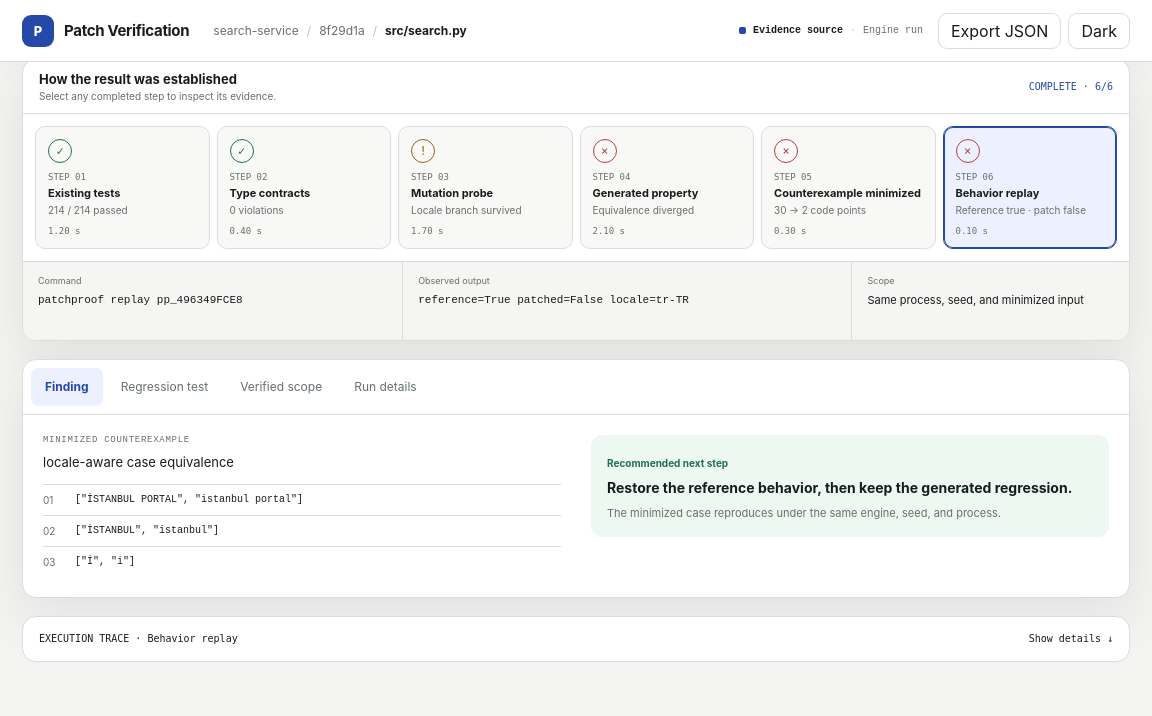
it: Patch Verification forensic workbench › navigates the evidence ledger and copies the generated regression
(page scrolled)
Click the tab "Regression test" at (164, 387), box [107,368,222,406]
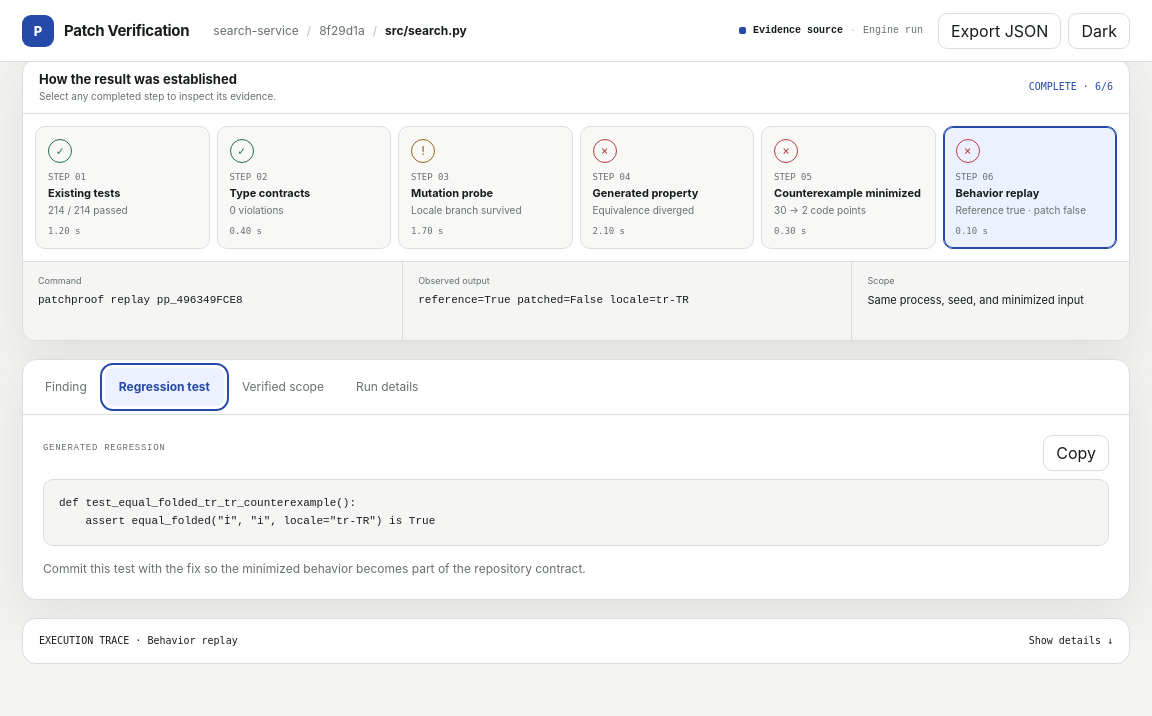
Click the button "Copy" at (1076, 453), box [1043,435,1109,471]
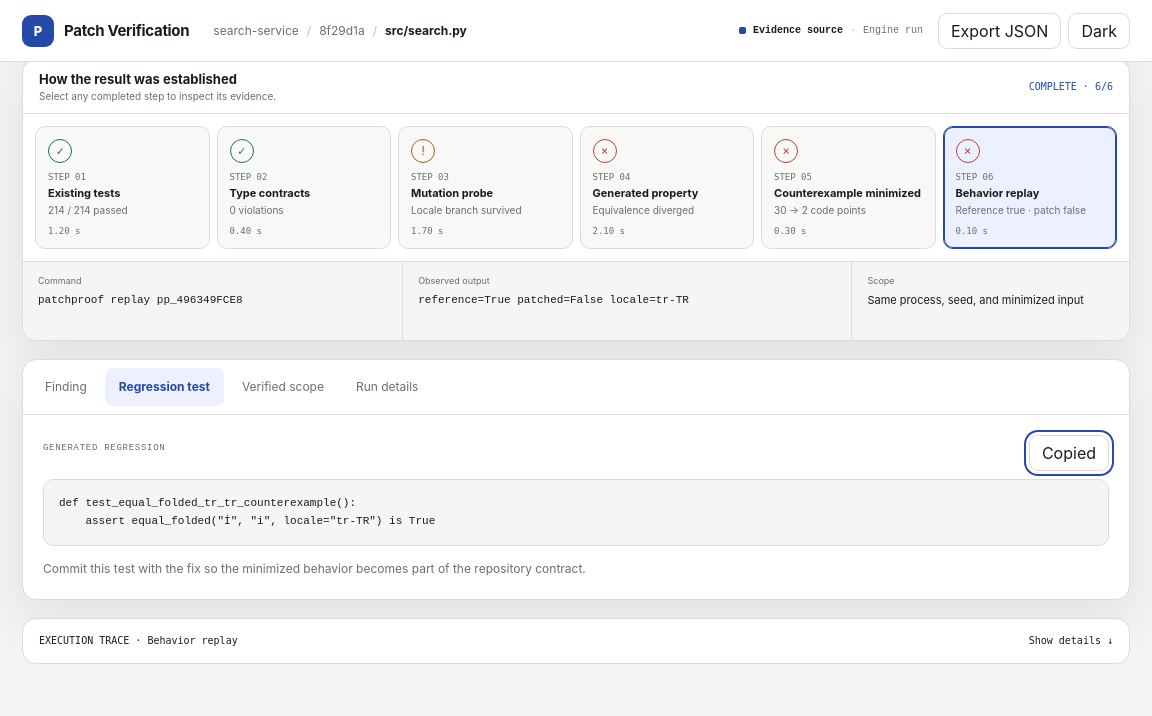
Click the tab "Verified scope" at (283, 387), box [228,368,338,406]
(page scrolled)
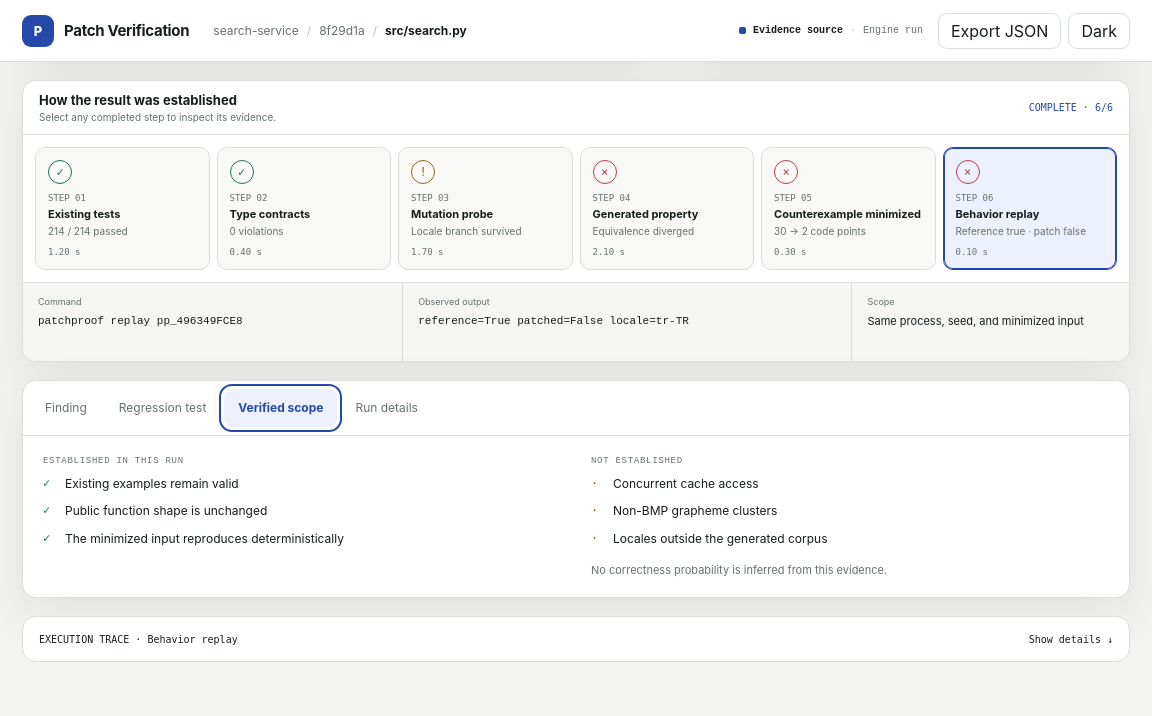
Check: the text "NOT ESTABLISHED" is shown, box [591,456,683,466]
Check: the text "No correctness probability is inferred from this evidence." is shown, box [591,563,887,577]
Click the tab "Run details" at (387, 408), box [341,389,432,427]
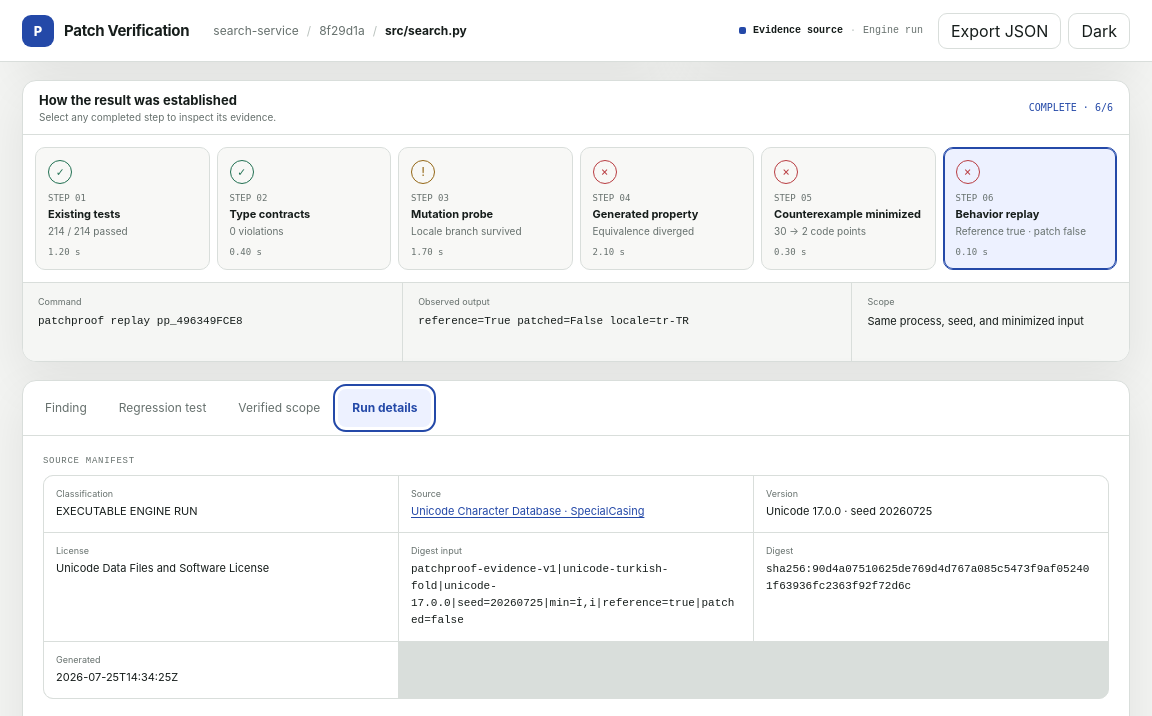
Check: the text "Unicode 17.0.0 · seed 20260725" is shown, box [766,504,932,518]
